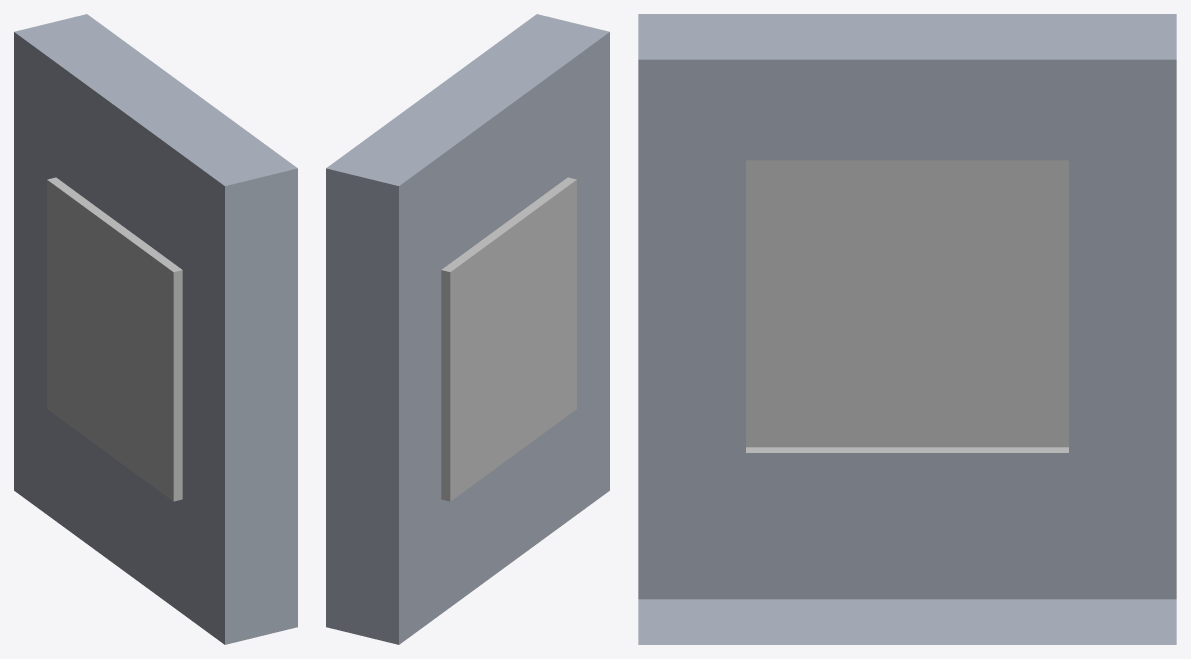
The model's file is cell_29.obj.
The picture shows the model from 3 angles, left to right: view 1: azimuth 30°, elevation 25°; view 2: azimuth 150°, elevation 25°; view 3: azimuth 270°, elevation 25°; orthographic projection. The views are drawn at different scales.
Size of the model in its own units: 0.1406 by 0.75 by 0.625.
